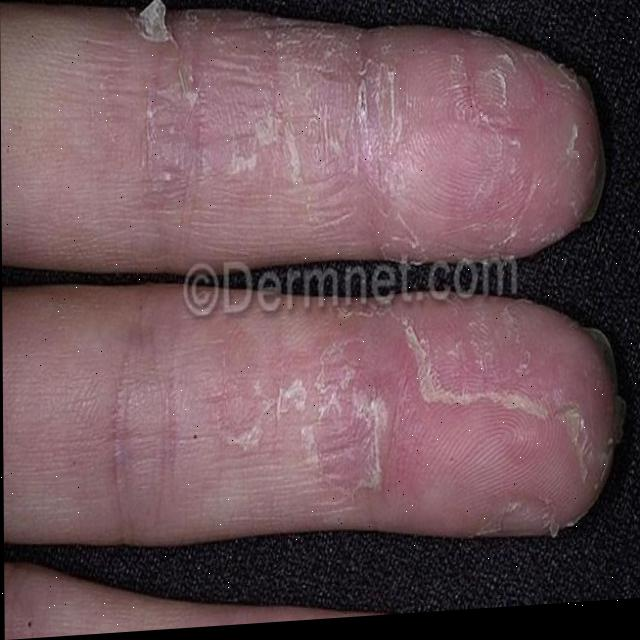Eczema: (118, 0, 631, 550)
